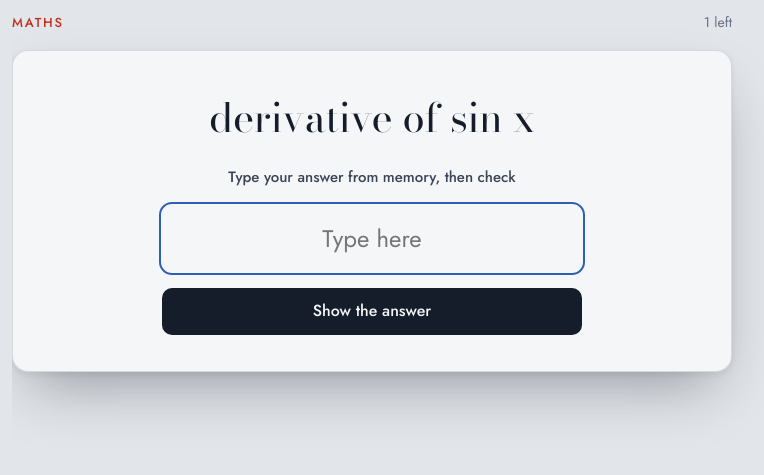
it: flashcards › reviews a due card: type, reveal, grade, and the card is rescheduled
Expected: the text "derivative of sin x" is shown, [209,87,535,149]
Type "cos x" into the field labelled "Type your answer from memory, then check" at point(372, 239), box [162,205,582,272]
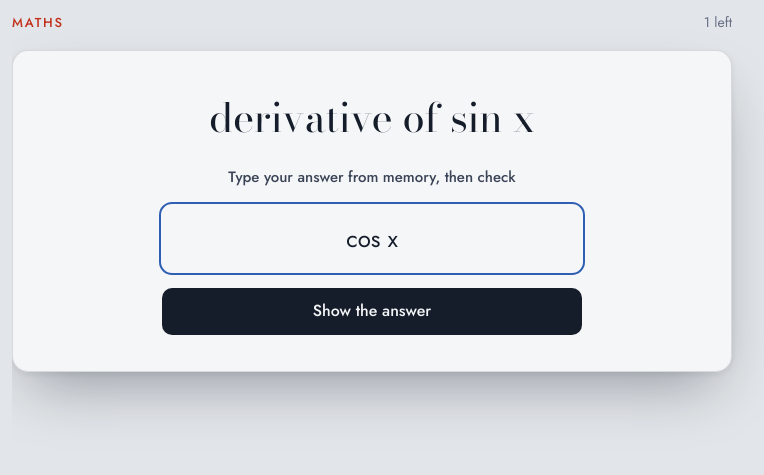
Click the button "Show the answer" at point(372, 312), box [162,288,582,335]
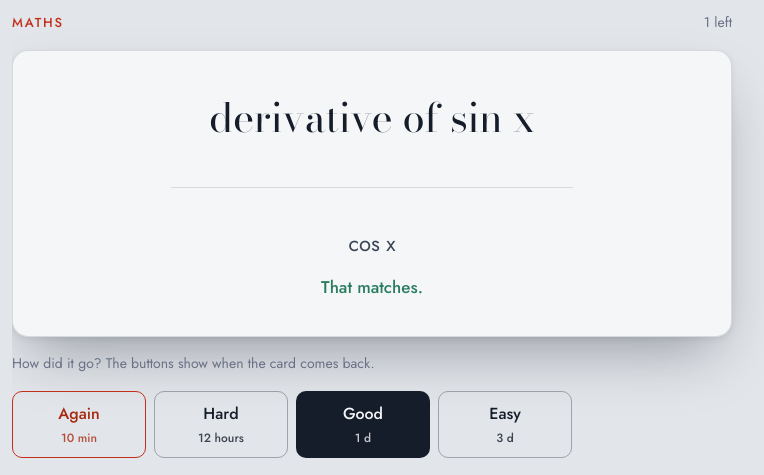
Expected: the text "That matches." is shown, [321,274,423,300]
Click the button "Good 1 d" at point(363, 424), box [296,391,430,458]
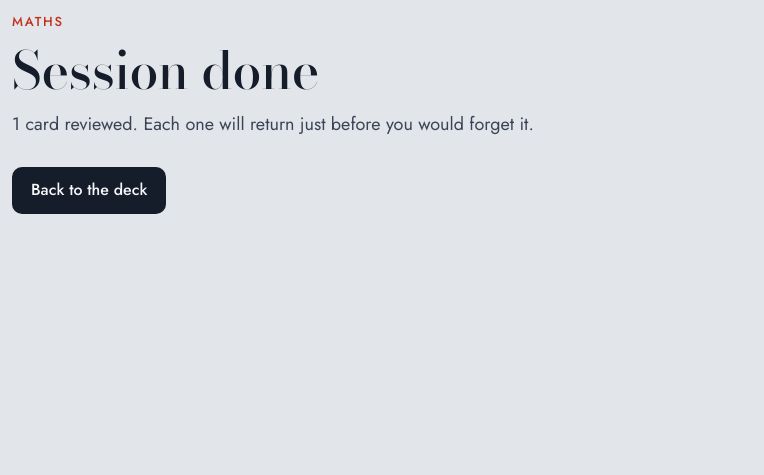
Expected: the heading "Session done" is shown, [12,30,319,110]
